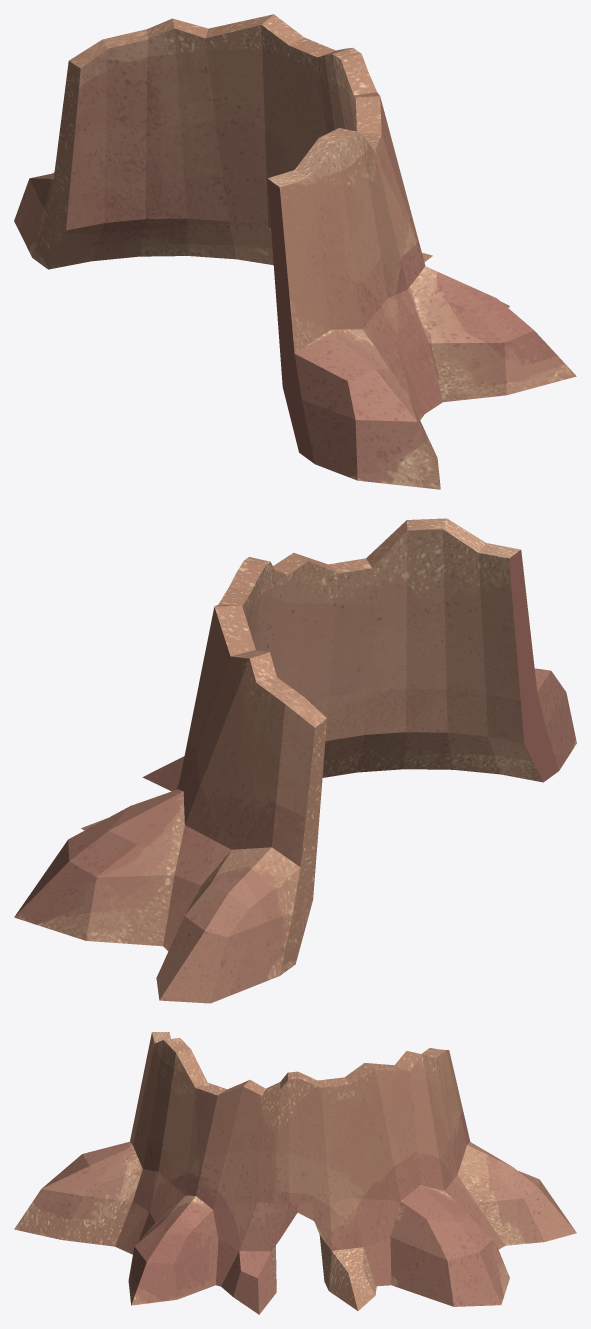
File: TREE_FRONTTEXTURED.fbx
3 views of the same model, one above another, from view 1: azimuth 30°, elevation 25°; view 2: azimuth 150°, elevation 25°; view 3: azimuth 270°, elevation 25° (orthographic). The views are drawn at different scales.
Parts seen in each view (by area): view 1: Cylinder; view 2: Cylinder; view 3: Cylinder.
Part boxes in pixels (left/top/right/bottom): Cylinder: left=14, top=14, right=576, bottom=489; Cylinder: left=14, top=518, right=576, bottom=1003; Cylinder: left=14, top=1032, right=576, bottom=1314.
Size of the model in its own units: 632 by 542 by 1407.
Materials: 1 (1 with a texture image).
